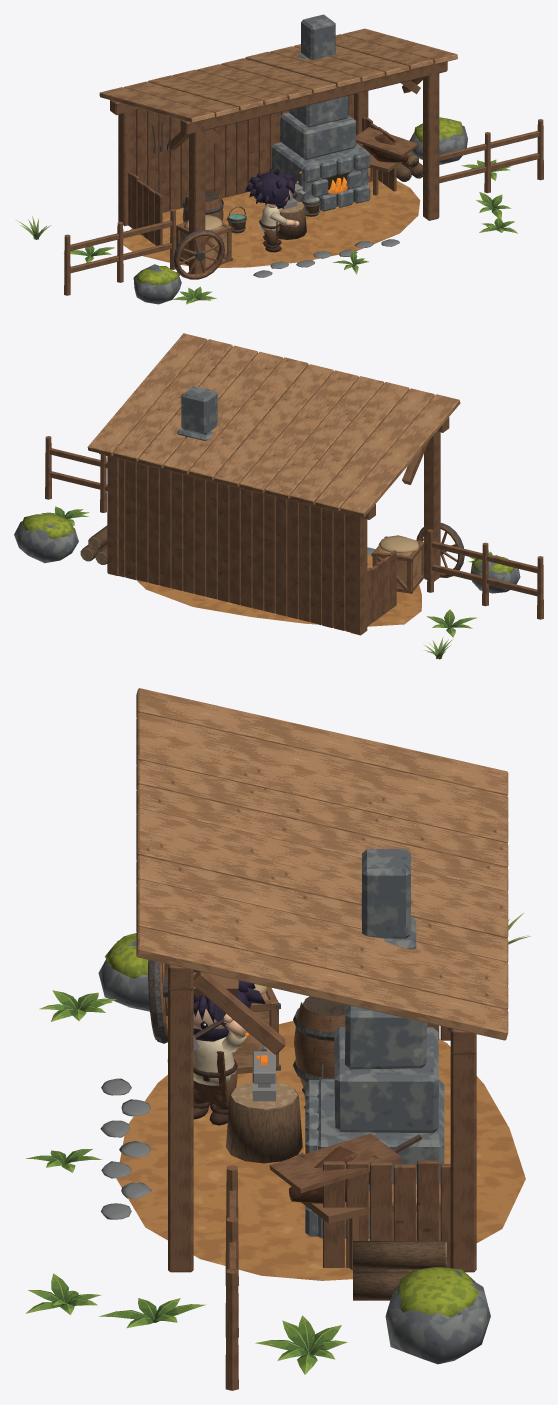
The model's file is ev04_smithy.glb.
3 views of the same model, one above another, from view 1: azimuth 30°, elevation 25°; view 2: azimuth 150°, elevation 25°; view 3: azimuth 270°, elevation 25° (orthographic). The views are drawn at different scales.
Visible parts, largest first — view 1: ev04_smithy_shed, ev04_smithy_ground_details, ev04_smithy_forge, ev04_smithy_tools, ev04_smithy_smith, ev04_smithy_plants; view 2: ev04_smithy_shed, ev04_smithy_ground_details, ev04_smithy_tools, ev04_smithy_forge, ev04_smithy_plants; view 3: ev04_smithy_shed, ev04_smithy_ground_details, ev04_smithy_tools, ev04_smithy_forge, ev04_smithy_plants, ev04_smithy_smith.
Part boxes in pixels (x1,y1,x2,y2): ev04_smithy_shed: (99, 28, 457, 273); ev04_smithy_ground_details: (64, 117, 543, 304); ev04_smithy_forge: (271, 14, 370, 213); ev04_smithy_tools: (152, 120, 422, 279); ev04_smithy_smith: (245, 168, 305, 252); ev04_smithy_plants: (15, 159, 517, 304); ev04_smithy_shed: (87, 333, 460, 635); ev04_smithy_ground_details: (14, 436, 543, 626); ev04_smithy_tools: (80, 523, 464, 593); ev04_smithy_forge: (177, 386, 217, 440); ev04_smithy_plants: (41, 506, 503, 659); ev04_smithy_shed: (136, 688, 508, 1272); ev04_smithy_ground_details: (98, 933, 525, 1390); ev04_smithy_tools: (148, 960, 450, 1300); ev04_smithy_forge: (303, 849, 444, 1238); ev04_smithy_plants: (25, 913, 530, 1374); ev04_smithy_smith: (167, 970, 265, 1125).
Size of what is drawn, in the model's own units: 8.62 by 3.2 by 3.95.
25 materials, 25 textured.
